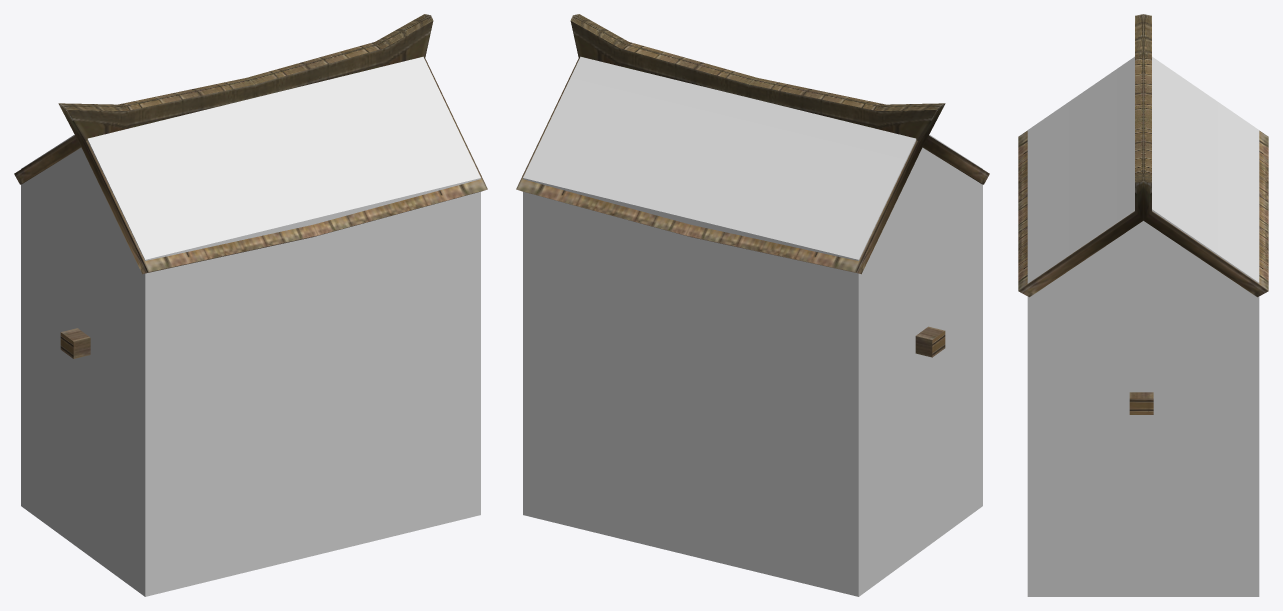
File: YHJ_gaoshipai.FBX
The picture shows the model from 3 angles, left to right: view 1: azimuth 30°, elevation 25°; view 2: azimuth 150°, elevation 25°; view 3: azimuth 270°, elevation 25°; orthographic projection. The views are drawn at different scales.
Parts seen in each view (by area): view 1: YHJ_gaoshipai-col, YHJ_gaoshipai; view 2: YHJ_gaoshipai-col, YHJ_gaoshipai; view 3: YHJ_gaoshipai-col, YHJ_gaoshipai.
Part boxes in pixels (left/top/right/bottom): YHJ_gaoshipai-col: left=21, top=56, right=480, bottom=596; YHJ_gaoshipai: left=14, top=14, right=487, bottom=358; YHJ_gaoshipai-col: left=523, top=56, right=982, bottom=596; YHJ_gaoshipai: left=516, top=14, right=989, bottom=357; YHJ_gaoshipai-col: left=1027, top=56, right=1259, bottom=596; YHJ_gaoshipai: left=1018, top=14, right=1268, bottom=414.
Bounding box in the file's own units: 97.05 × 113 × 61.01.
